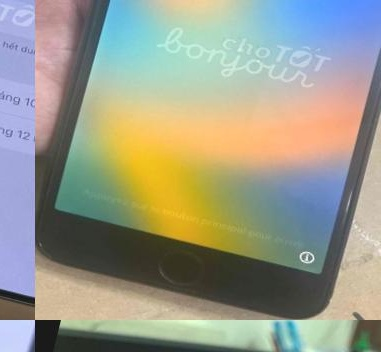scratch: (35, 0, 381, 320)
